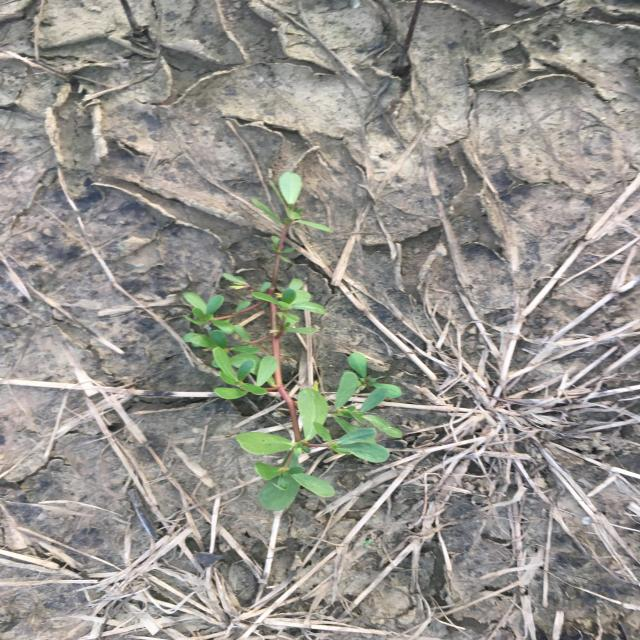Purslane: (178, 171, 406, 513)
